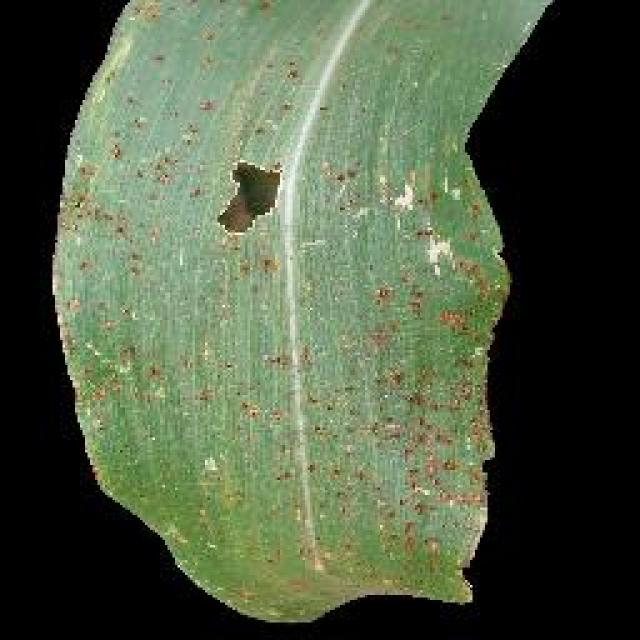Corn Common Rust: (120, 185, 510, 545)
